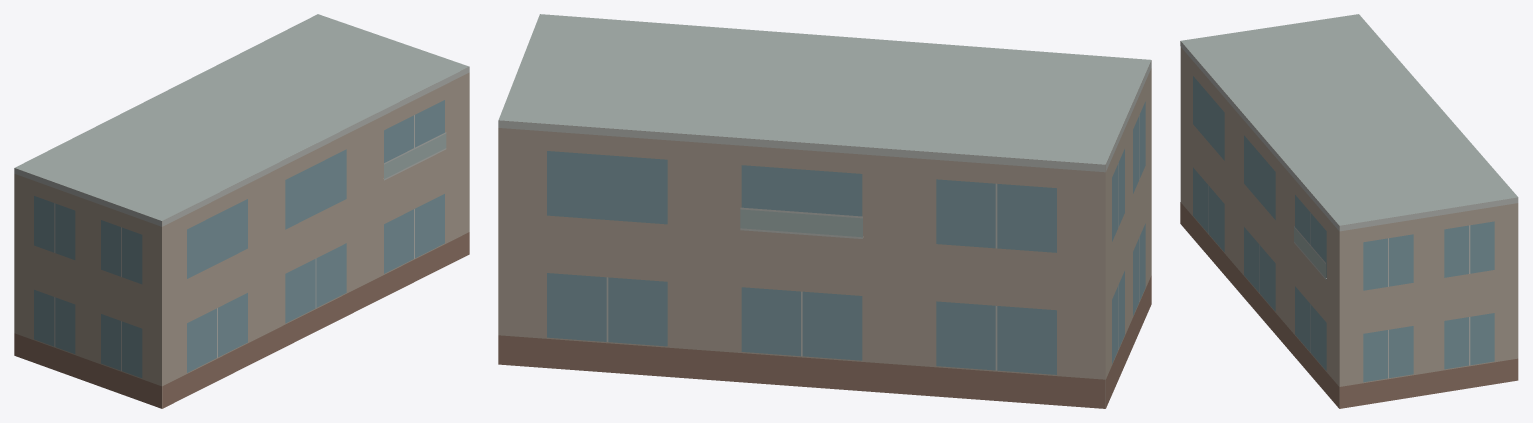
The model's file is survey-upis-33013554.glb.
The picture shows the model from 3 angles, left to right: view 1: azimuth 30°, elevation 25°; view 2: azimuth 150°, elevation 25°; view 3: azimuth 270°, elevation 25°; orthographic projection. The views are drawn at different scales.
Parts seen in each view (by area): view 1: survey-upis-33013554.tmp; view 2: survey-upis-33013554.tmp; view 3: survey-upis-33013554.tmp.
Boxes of the visible parts, x1,y1,x2,y2 form: survey-upis-33013554.tmp: (14,14,469,408); survey-upis-33013554.tmp: (498,14,1151,408); survey-upis-33013554.tmp: (1180,14,1518,408).
Size of the model in its own units: 19.61 by 7.9 by 13.22.
